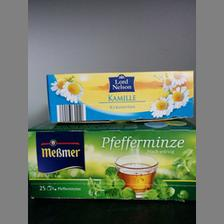Tee: (27, 123, 195, 201), (45, 68, 193, 124)
